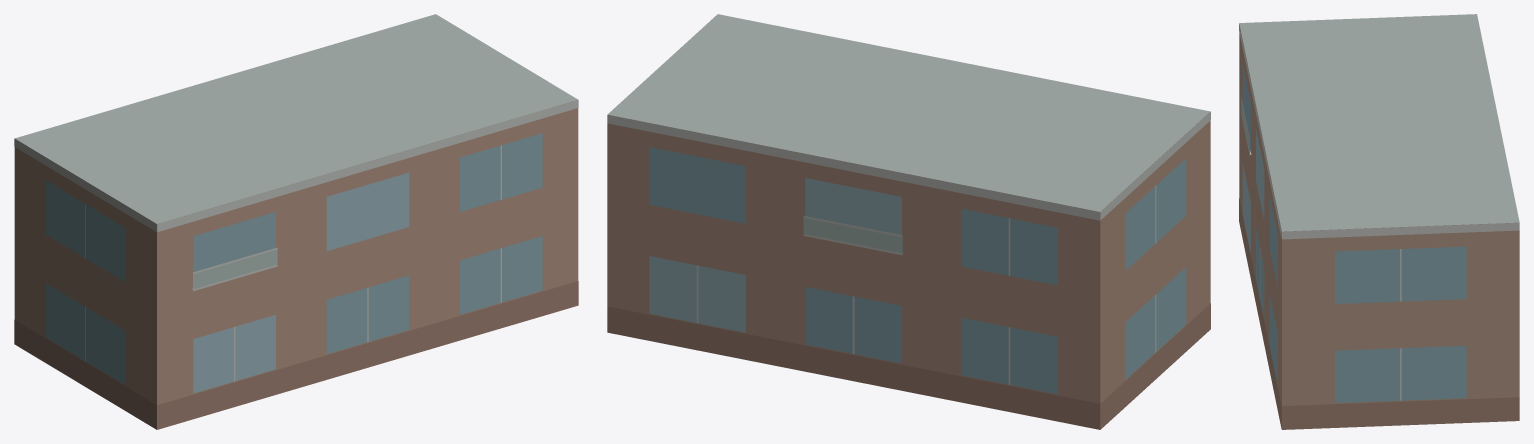
Rendered from survey-upis-32717124.glb.
The picture shows the model from 3 angles, left to right: view 1: azimuth 30°, elevation 25°; view 2: azimuth 150°, elevation 25°; view 3: azimuth 270°, elevation 25°; orthographic projection. The views are drawn at different scales.
Visible parts, largest first — view 1: survey-upis-32717124.tmp; view 2: survey-upis-32717124.tmp; view 3: survey-upis-32717124.tmp.
Boxes of the visible parts, <box> form: survey-upis-32717124.tmp: <box>14,14,578,429</box>; survey-upis-32717124.tmp: <box>607,14,1210,429</box>; survey-upis-32717124.tmp: <box>1239,14,1519,429</box>.
Size of the model in its own units: 14.36 by 6.1 by 7.83.
